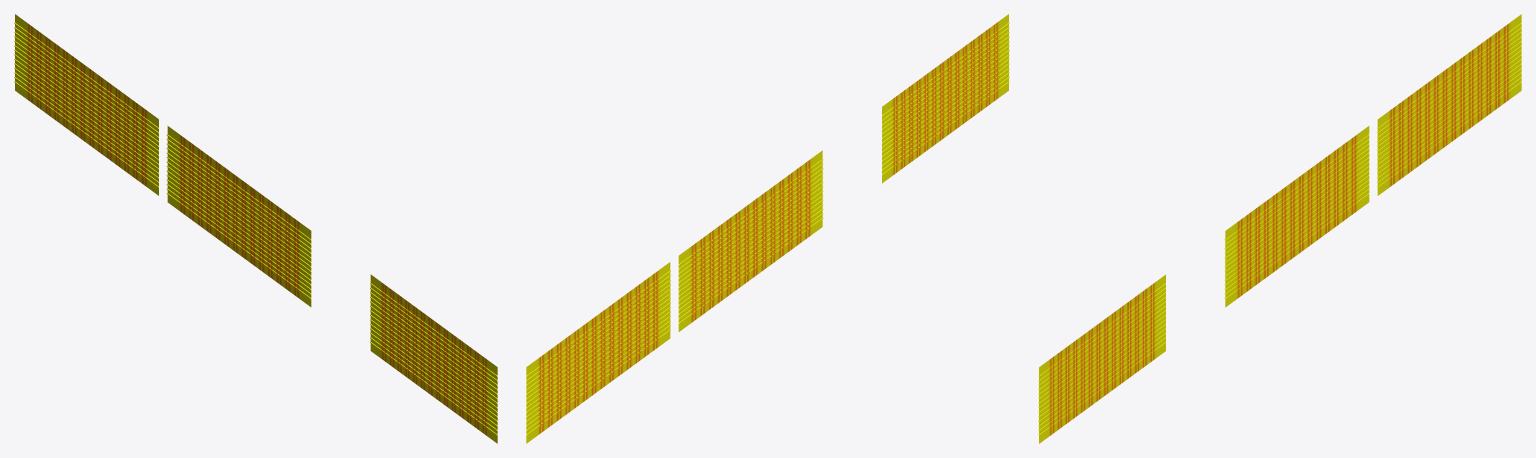
The model's file is RB_Walls_2.fbx.
3 views of the same model, side by side, from view 1: azimuth 30°, elevation 25°; view 2: azimuth 150°, elevation 25°; view 3: azimuth 330°, elevation 25° (orthographic).
Parts seen in each view (by area): view 1: beam_0.5x2_Cube.366_beam_0.5x2_Cube.014; view 2: beam_0.5x2_Cube.366_beam_0.5x2_Cube.014; view 3: beam_0.5x2_Cube.366_beam_0.5x2_Cube.014.
Boxes of the visible parts, box(x1,y1,x2,y2) form: beam_0.5x2_Cube.366_beam_0.5x2_Cube.014: box(14, 14, 497, 443); beam_0.5x2_Cube.366_beam_0.5x2_Cube.014: box(526, 14, 1009, 443); beam_0.5x2_Cube.366_beam_0.5x2_Cube.014: box(1038, 14, 1521, 443).
Size of the model in its own units: 3 by 250 by 2850.
